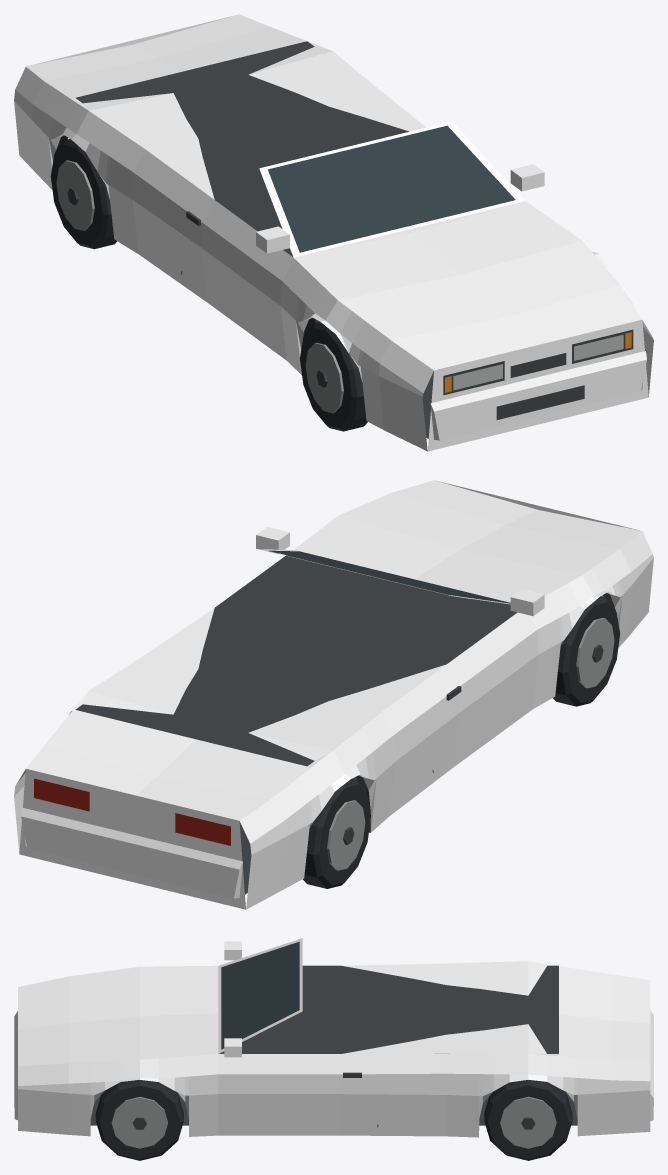
File: ashcombe_sorrel.glb
3 renders of one model, top to bottom at view 1: azimuth 30°, elevation 25°; view 2: azimuth 150°, elevation 25°; view 3: azimuth 270°, elevation 25°, orthographic. The views are drawn at different scales.
Visible parts, largest first — view 1: ashcombe_sorrel; view 2: ashcombe_sorrel; view 3: ashcombe_sorrel.
Part boxes in pixels (left/top/right/bottom): ashcombe_sorrel: left=14, top=14, right=653, bottom=451; ashcombe_sorrel: left=14, top=480, right=653, bottom=909; ashcombe_sorrel: left=14, top=938, right=653, bottom=1160.
Bounding box in the file's own units: 1.72 × 1.03 × 4.38.
8 materials, 1 textured.
